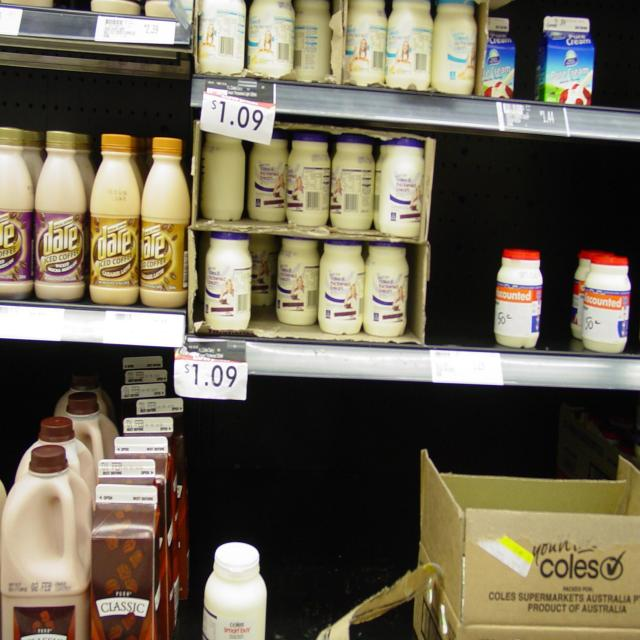void: (269, 440, 416, 640), (438, 142, 491, 344), (544, 219, 574, 350)
